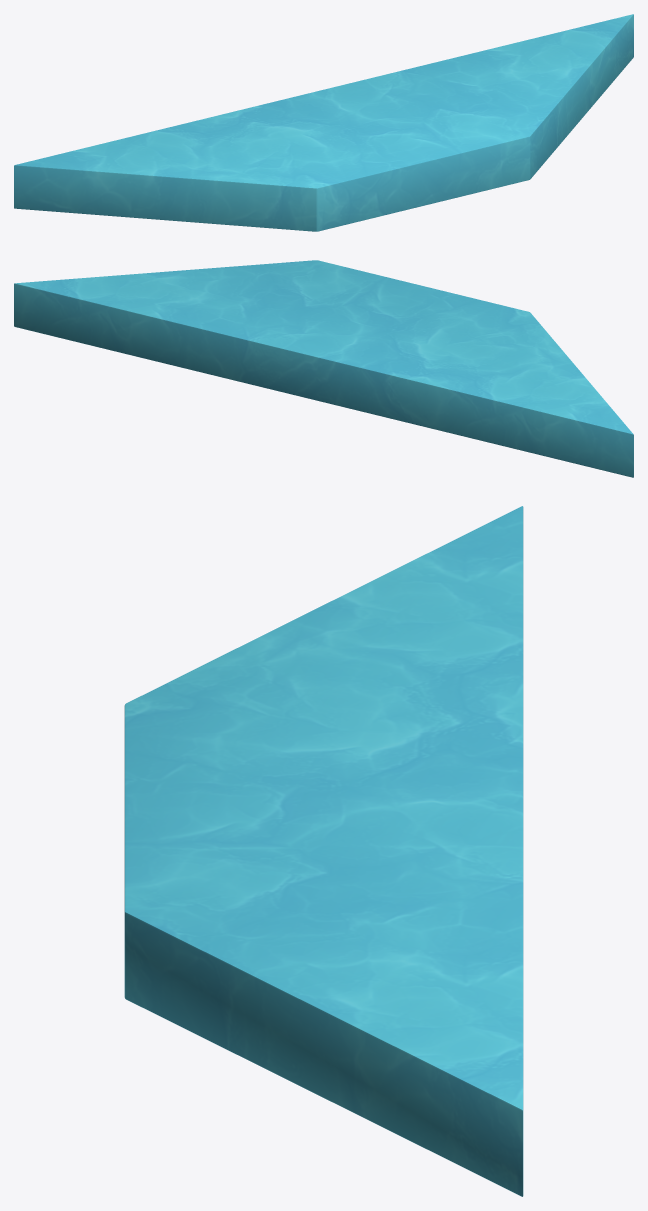
Rendered from SM_RunFloorIce04.fbx.
3 views of the same model, one above another, from view 1: azimuth 30°, elevation 25°; view 2: azimuth 150°, elevation 25°; view 3: azimuth 270°, elevation 25° (orthographic). The views are drawn at different scales.
Parts seen in each view (by area): view 1: SM_RunFloorIce04; view 2: SM_RunFloorIce04; view 3: SM_RunFloorIce04.
Boxes of the visible parts, box(x1,y1,x2,y2) form: SM_RunFloorIce04: box(14, 14, 633, 231); SM_RunFloorIce04: box(14, 260, 633, 477); SM_RunFloorIce04: box(124, 506, 523, 1196).
Size of the model in its own units: 5793 by 392 by 1614.
